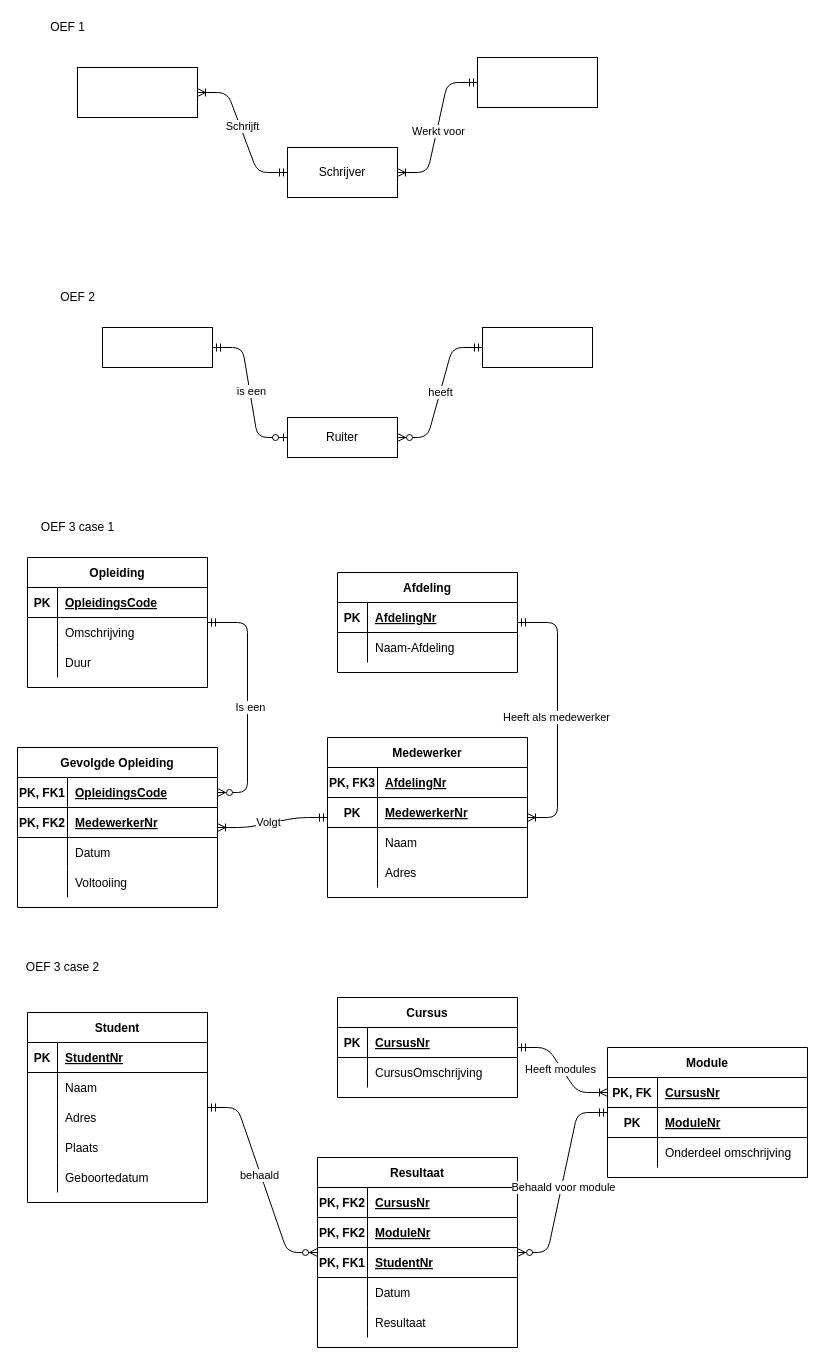
This 825x1365 diagram has some shape labels left out. Here are the shapes that lost their labels. From the top down, the centre of each, then its label:
pixel 137 92: Boek
pixel 537 82: Uitgever
pixel 157 347: Cowboy
pixel 537 347: Paard
